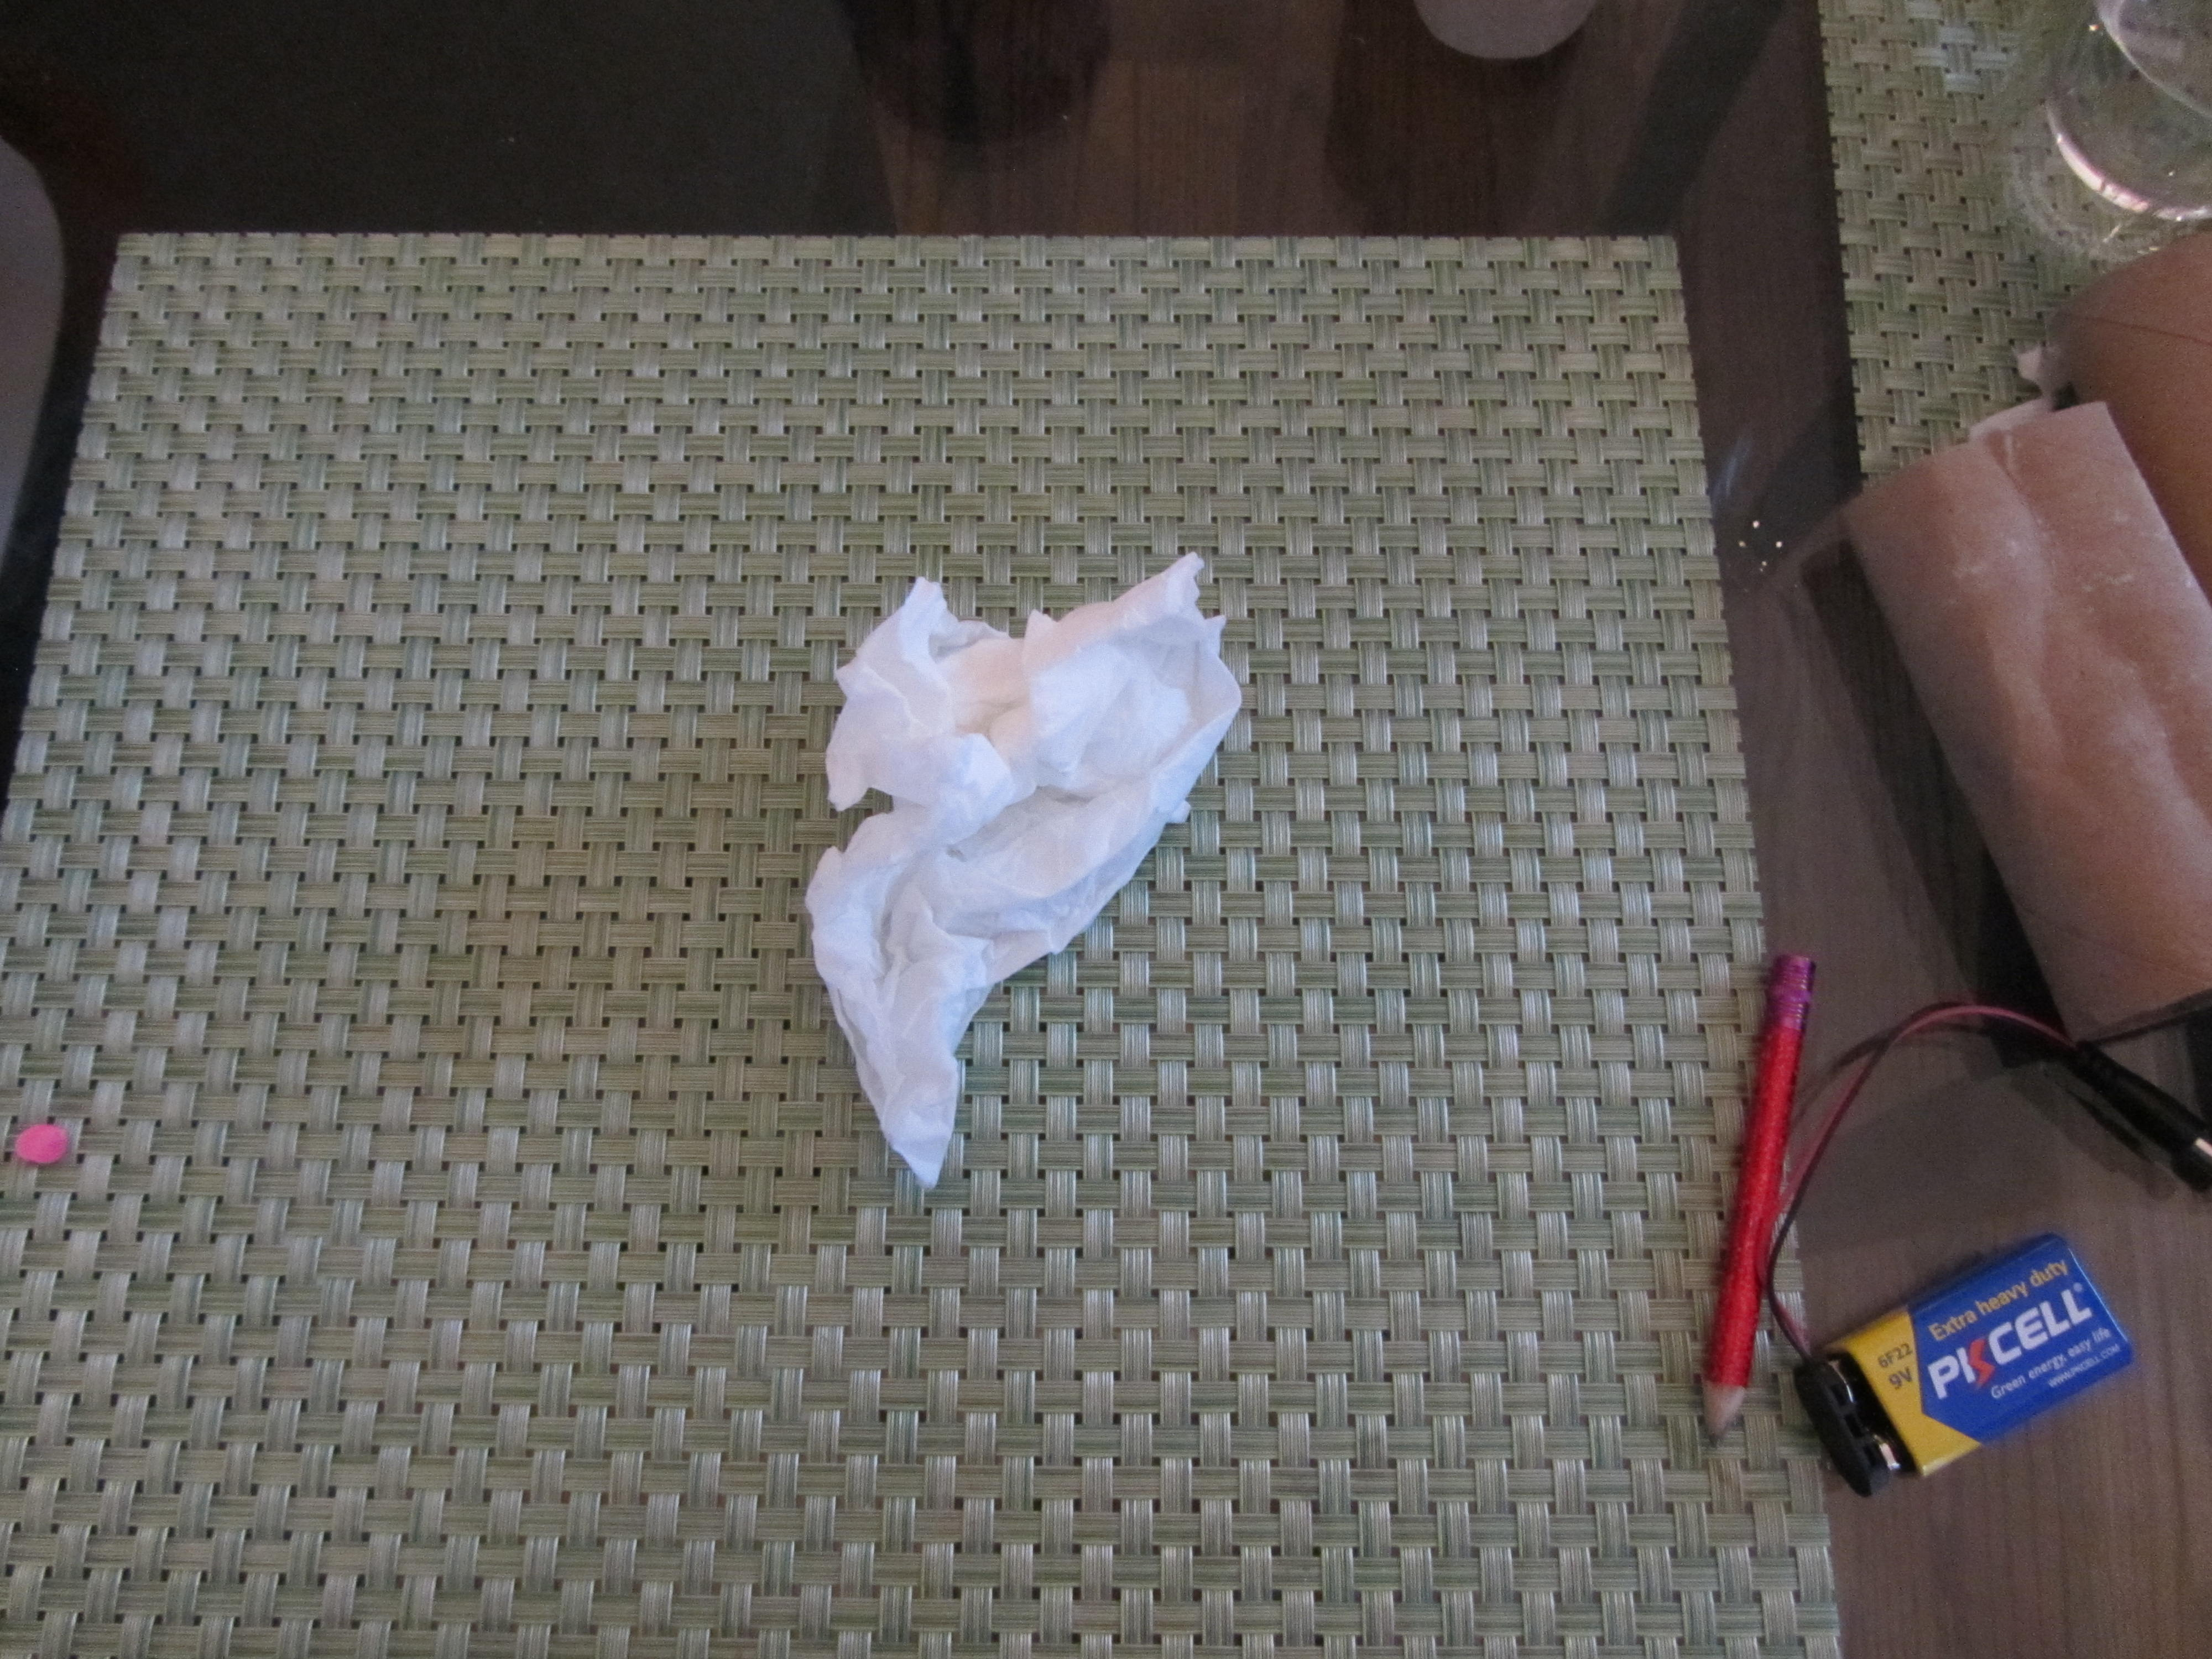tissue: (791, 545, 1266, 1201)
